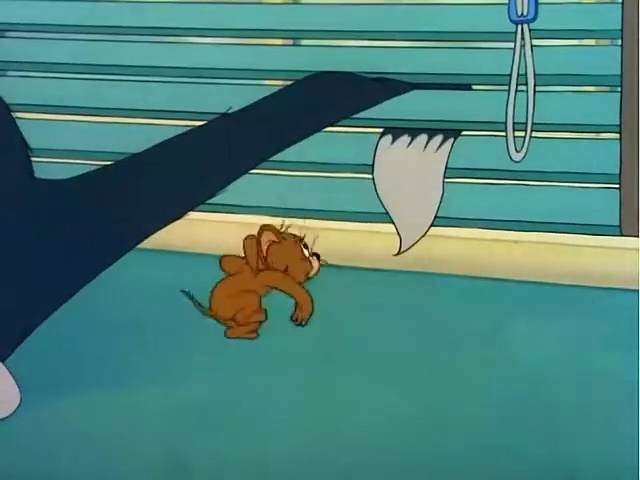jerry: (195, 212, 389, 376)
